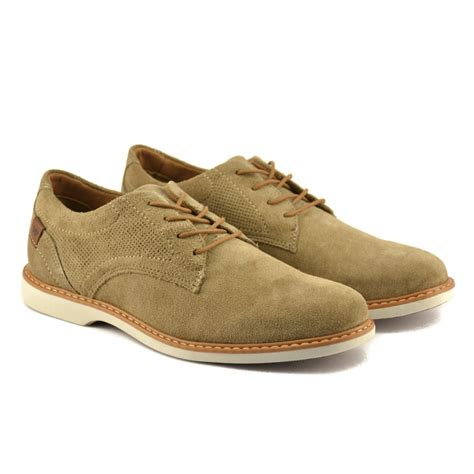gamuza: (97, 219, 450, 345)
